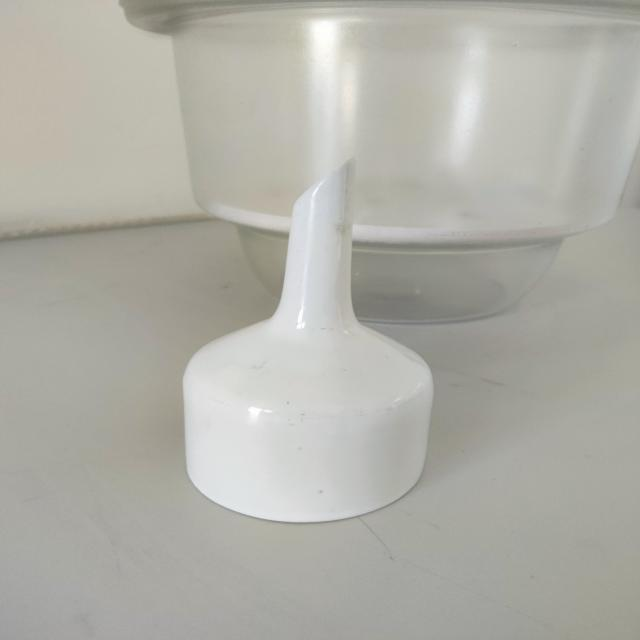Buchner_Funnel: (156, 127, 468, 547)
